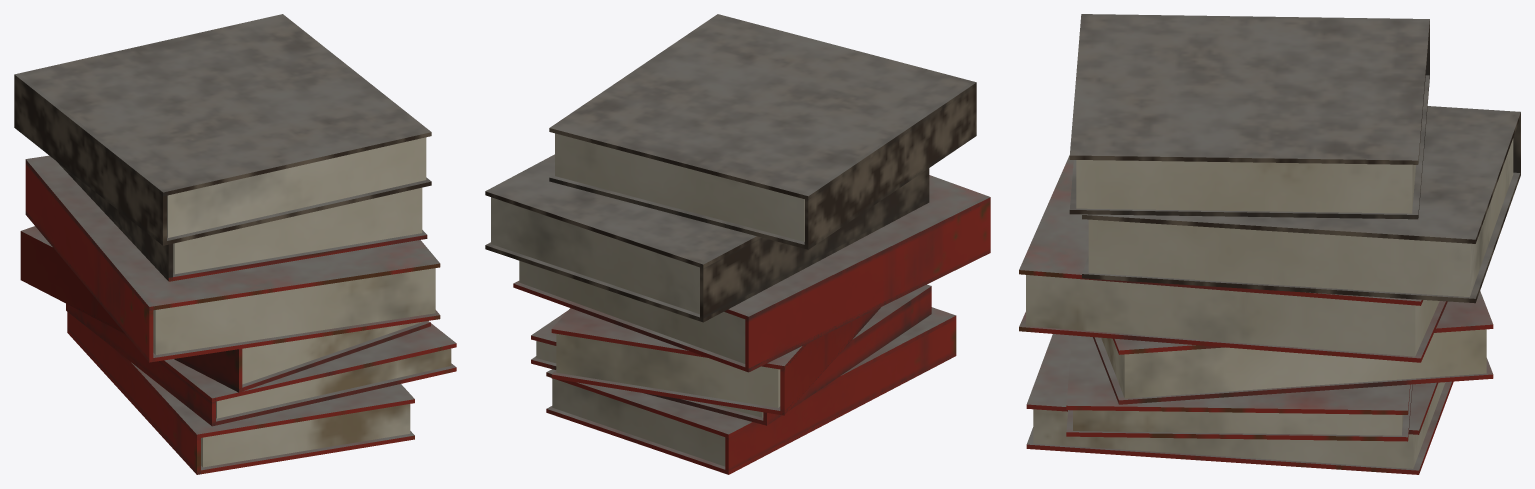
The model's file is SM_Books_Stack.fbx.
The picture shows the model from 3 angles, left to right: view 1: azimuth 30°, elevation 25°; view 2: azimuth 150°, elevation 25°; view 3: azimuth 270°, elevation 25°; orthographic projection. The views are drawn at different scales.
Visible parts, largest first — view 1: SM_Books_Stack; view 2: SM_Books_Stack; view 3: SM_Books_Stack.
Boxes of the visible parts, x1=… form: SM_Books_Stack: x1=14, y1=14, x2=456, y2=474; SM_Books_Stack: x1=485, y1=14, x2=990, y2=474; SM_Books_Stack: x1=1019, y1=14, x2=1520, y2=474.
Bounding box in the file's own units: 0.26 × 0.2175 × 0.3161.
1 material, 1 textured.
